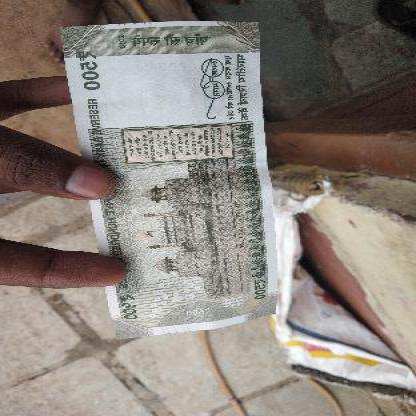New500Back: (65, 26, 268, 338)
